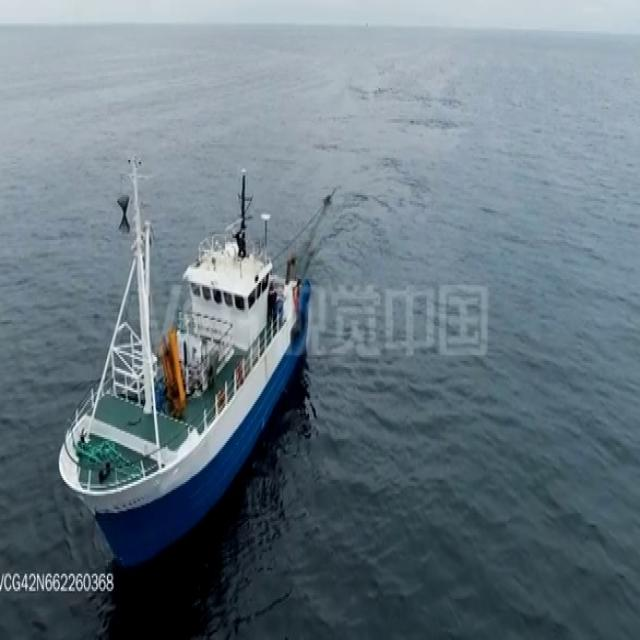fishing boat: (53, 153, 311, 566)
